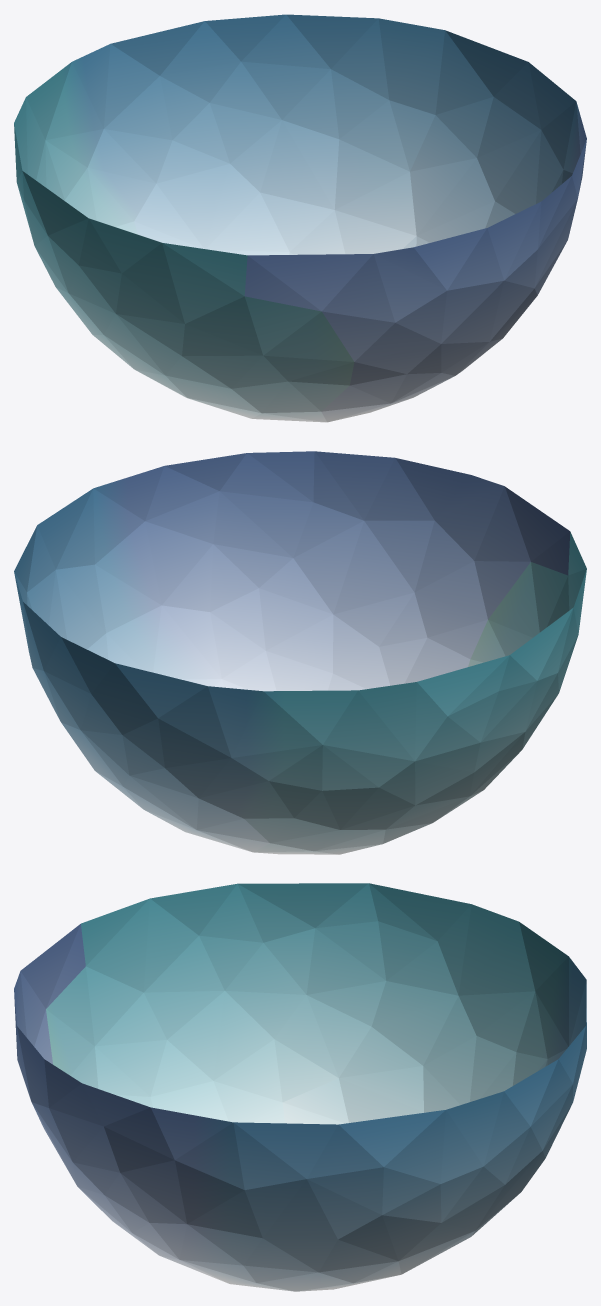
The model's file is SM_Sky.fbx.
3 views of the same model, one above another, from view 1: azimuth 30°, elevation 25°; view 2: azimuth 150°, elevation 25°; view 3: azimuth 270°, elevation 25° (orthographic).
Visible parts, largest first — view 1: SM_Sky; view 2: SM_Sky; view 3: SM_Sky.
Part boxes in pixels (x1,y1,x2,y2): SM_Sky: [14, 14, 586, 422]; SM_Sky: [14, 451, 586, 854]; SM_Sky: [14, 883, 586, 1291].
Bounding box in the file's own units: 198 × 99.96 × 199.
